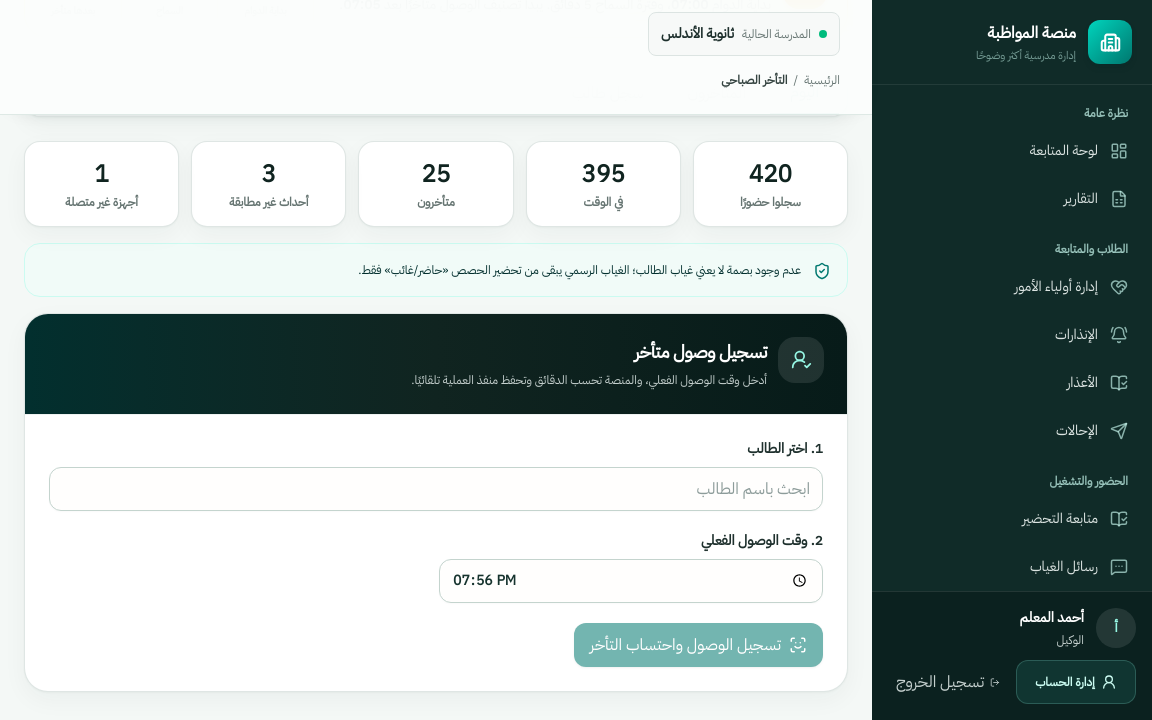
Test: morning attendance UI (Phase 8.5) › records a manual arrival with server-computed lateness
The width and height of the screenshot is (1152, 720).
(page scrolled)
Expected: the element with test id "morning-kpis" is shown, [24,140,848,226]
Type "محمد" into the field named "بحث عن طالب" at (436, 488), box [49,466,823,510]
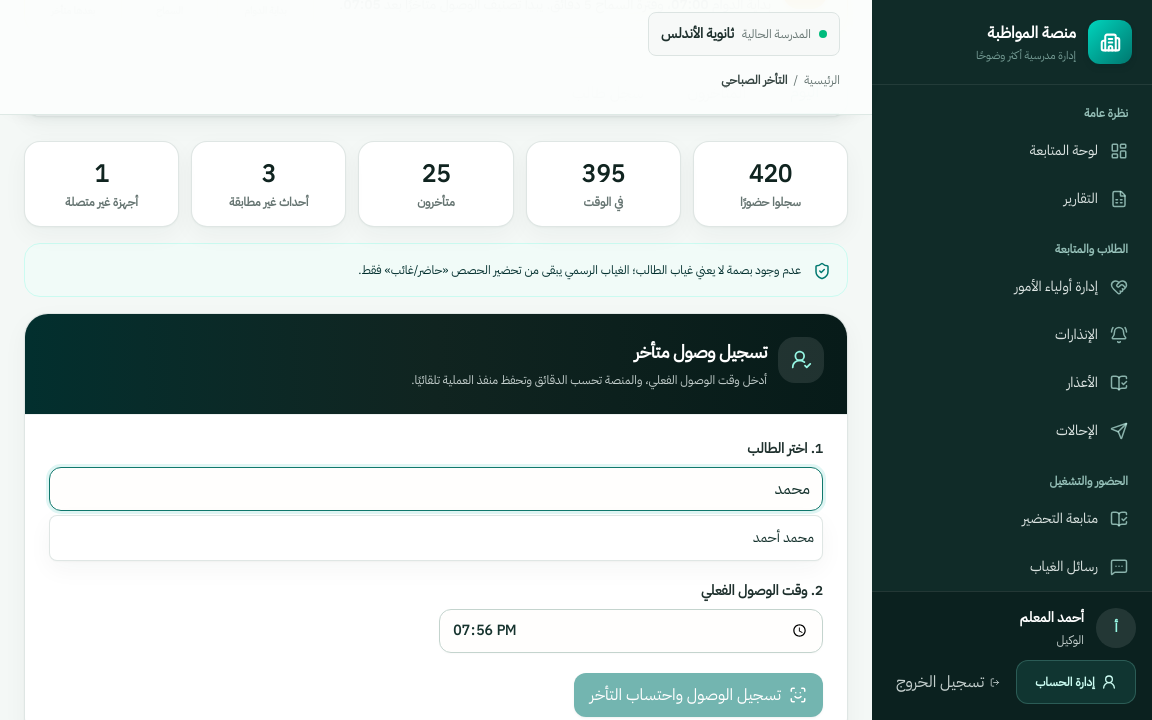
Click the button with test id "pick-student-5" at (784, 537), box [50,516,822,560]
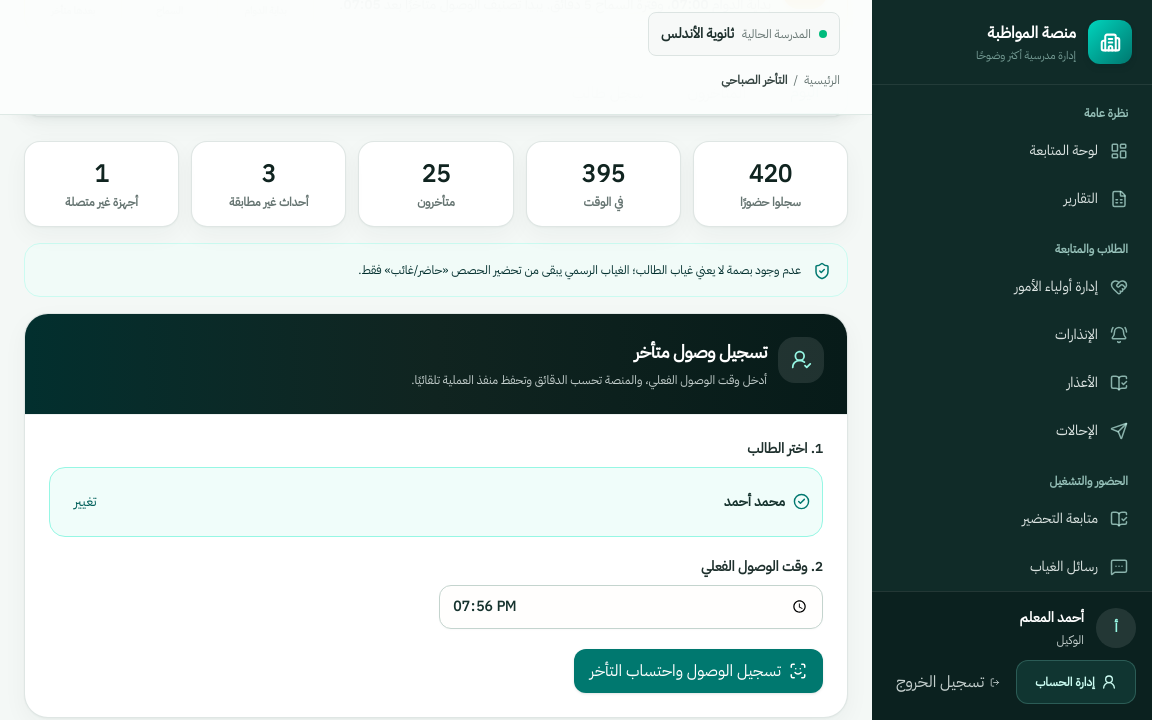
Click the button with test id "save-manual-arrival" at (698, 670), box [574,648,823,692]
(page scrolled)
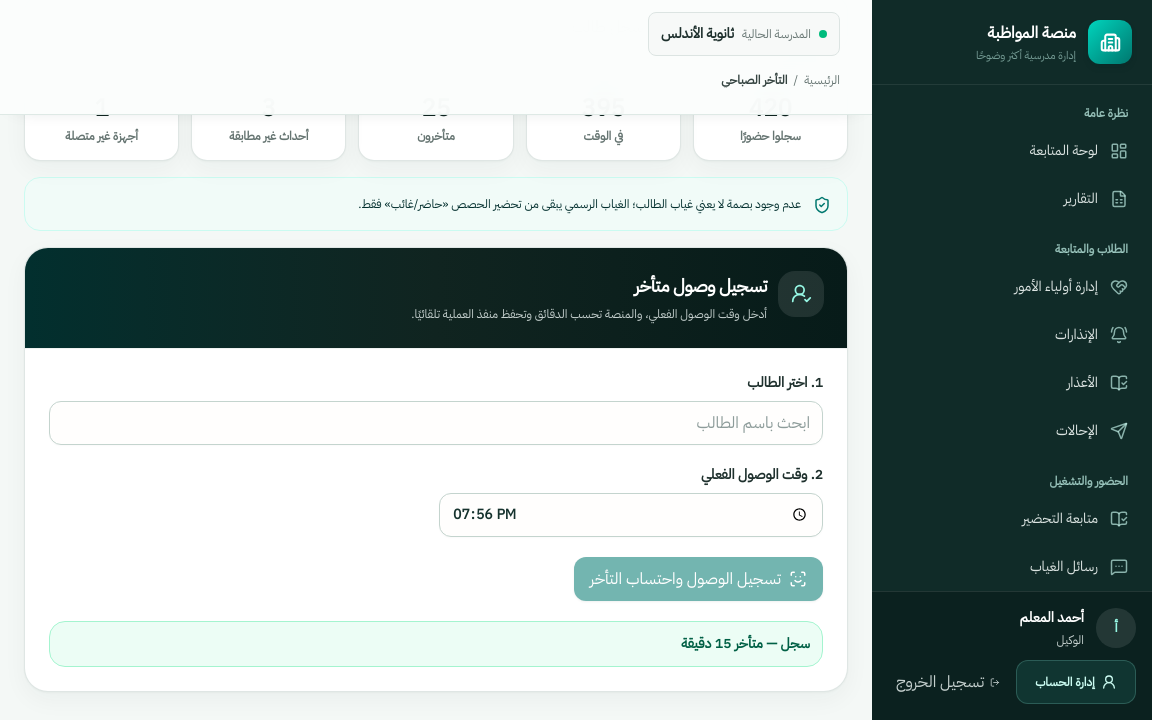
Expected: the message with test id "manual-arrival-result" shows "متأخر 15 دقيقة", [681,632,810,654]
